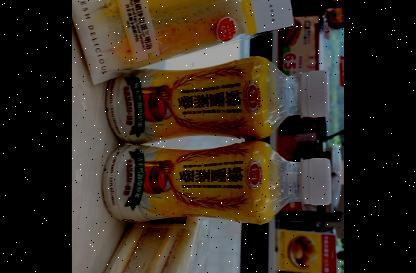Plastic Bottle: (103, 140, 330, 224), (106, 56, 327, 142)
